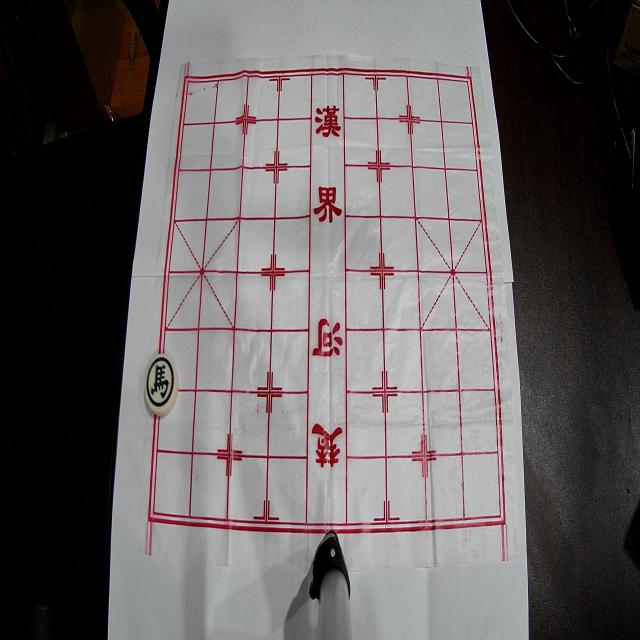black-horse: (144, 354, 178, 416)
